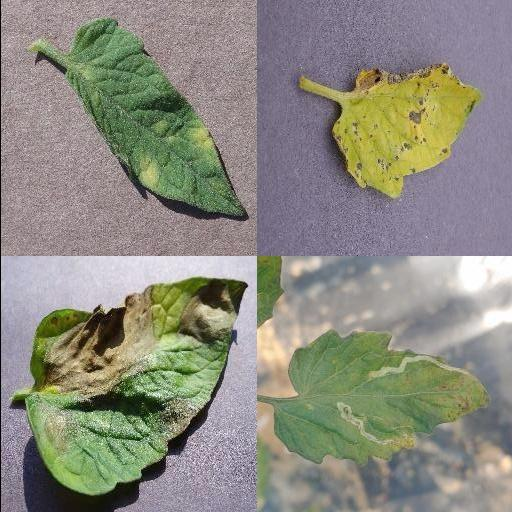Late Blight: (24, 277, 250, 497)
Leaf Miner: (271, 326, 489, 468)
Leaf Mold: (64, 17, 246, 217)
Septoria: (331, 62, 485, 200)
